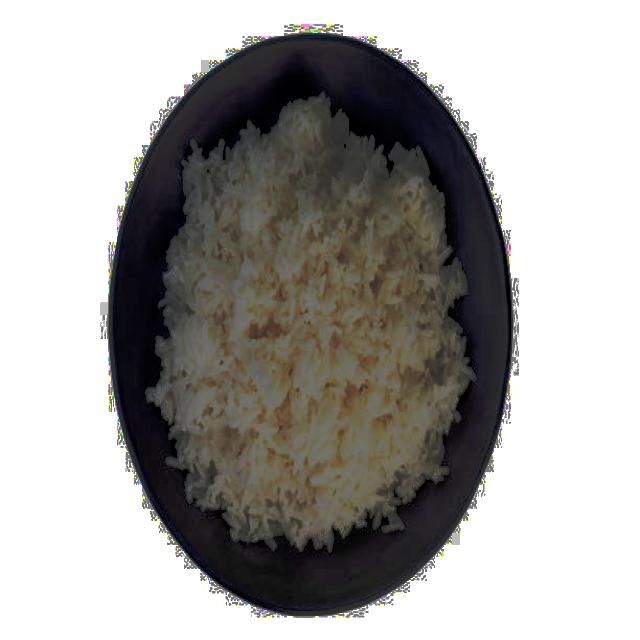rice: (145, 95, 477, 552)
